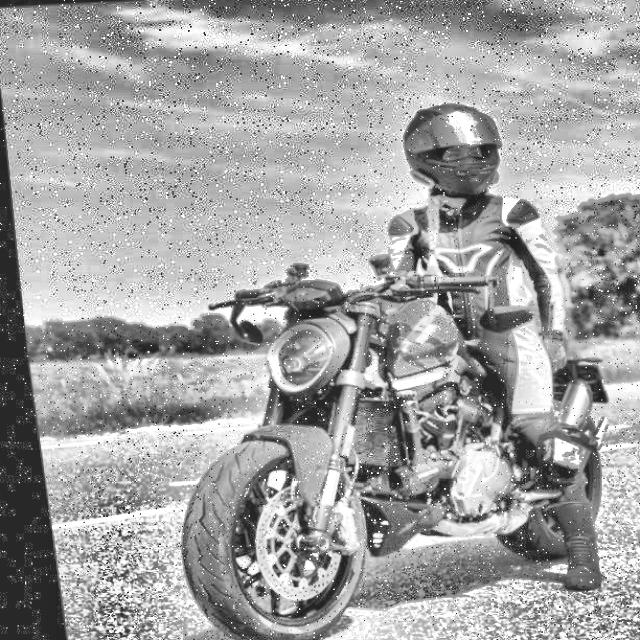Helmet: (394, 96, 510, 203)
